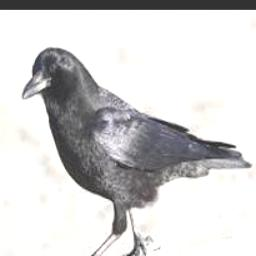Crow: (22, 47, 254, 256)
